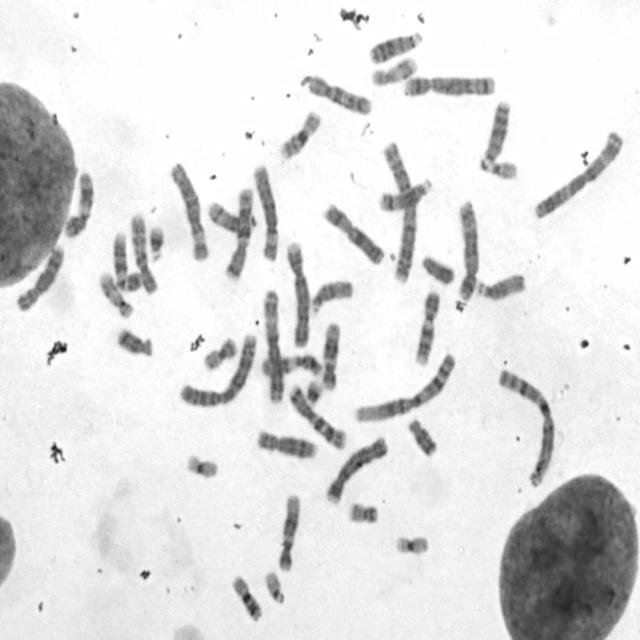A1: (350, 347, 459, 424), (497, 365, 557, 490)
A2: (175, 329, 259, 408), (379, 137, 419, 284)
A3: (530, 126, 626, 220), (260, 286, 286, 404)
B4: (323, 432, 389, 504), (283, 237, 313, 348)
B5: (400, 68, 498, 100), (454, 197, 481, 301)
C10: (303, 70, 374, 117), (128, 211, 158, 295)
C11: (61, 168, 95, 239), (258, 348, 324, 379)
C12: (275, 490, 302, 573), (319, 318, 342, 392)
C6: (167, 157, 210, 263), (250, 159, 280, 264)
C7: (286, 379, 348, 452), (222, 181, 254, 281)
C8: (12, 239, 64, 313), (254, 425, 318, 460)
C9: (411, 286, 441, 366), (110, 228, 143, 294)
D13: (477, 96, 512, 166), (366, 26, 424, 65)
D14: (376, 173, 435, 214), (203, 196, 260, 234)
D15: (308, 275, 354, 316), (472, 269, 526, 301)
E16: (276, 105, 323, 161), (228, 569, 264, 623)
E17: (95, 267, 135, 320), (369, 53, 419, 87)
E18: (405, 414, 439, 458), (114, 324, 154, 358)
F19: (184, 450, 220, 480), (393, 530, 431, 556)
F20: (200, 333, 238, 372), (346, 498, 380, 525)
G21: (146, 222, 166, 263), (303, 376, 324, 406)
G22: (476, 155, 519, 182), (261, 566, 286, 606)
X: (321, 200, 386, 266)
Y: (419, 250, 456, 286)
